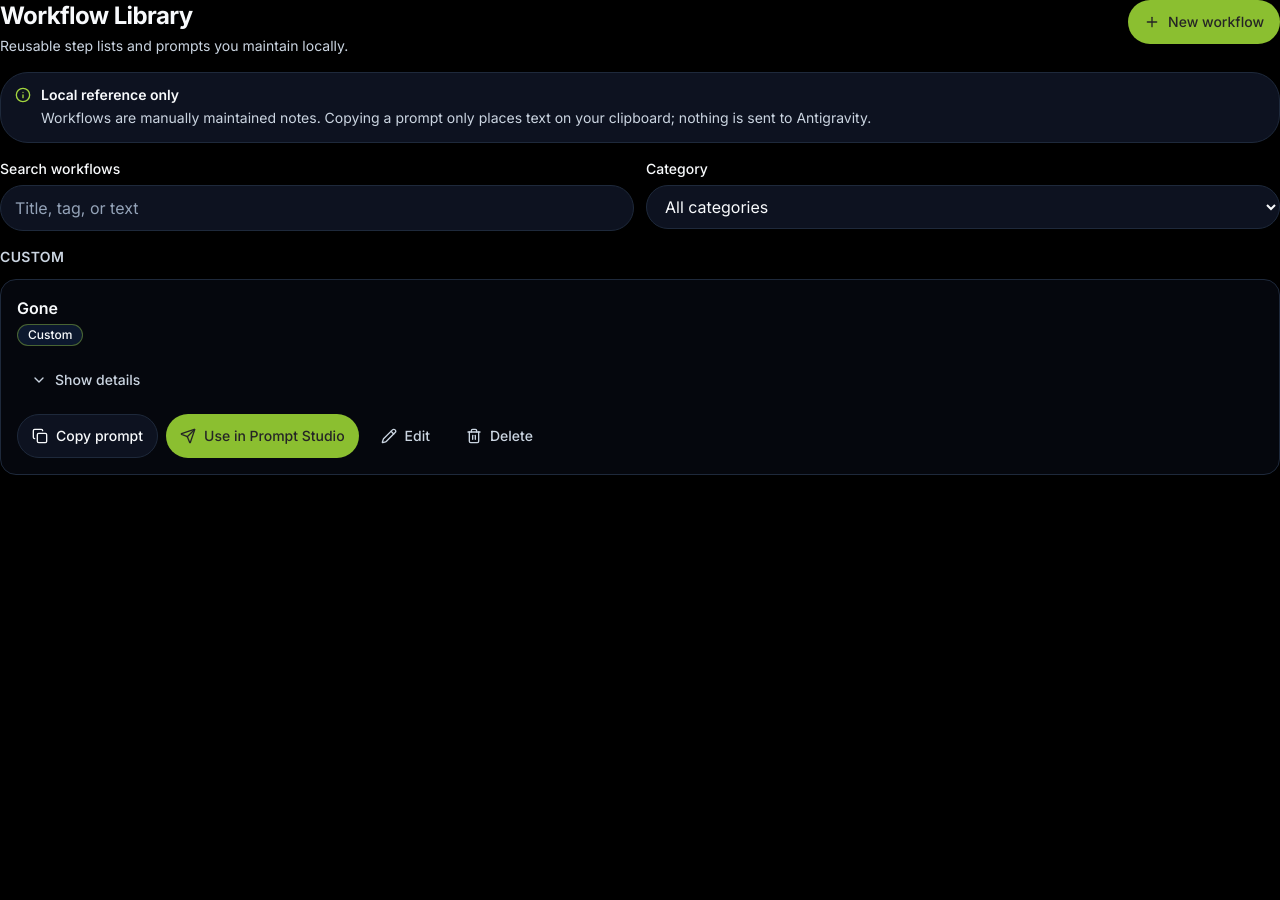
Scenario: WorkflowLibraryPage › deletes with confirm
Expected: the heading "Gone" is shown, [17, 298, 58, 318]
Click the button with aria-label "Delete Gone" at (499, 436), box [452, 414, 547, 458]
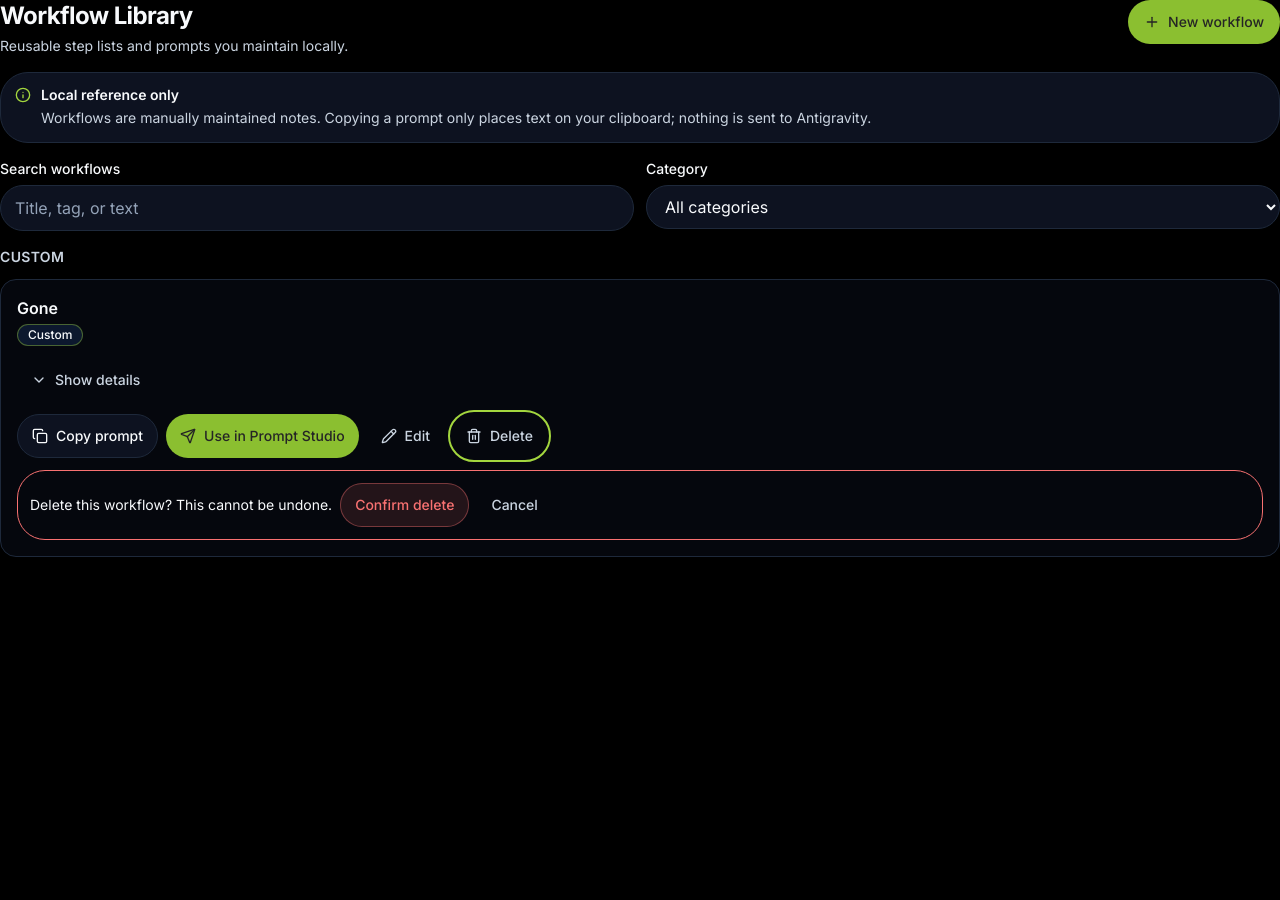
Click the button "Confirm delete" at (405, 505), box [340, 483, 469, 527]
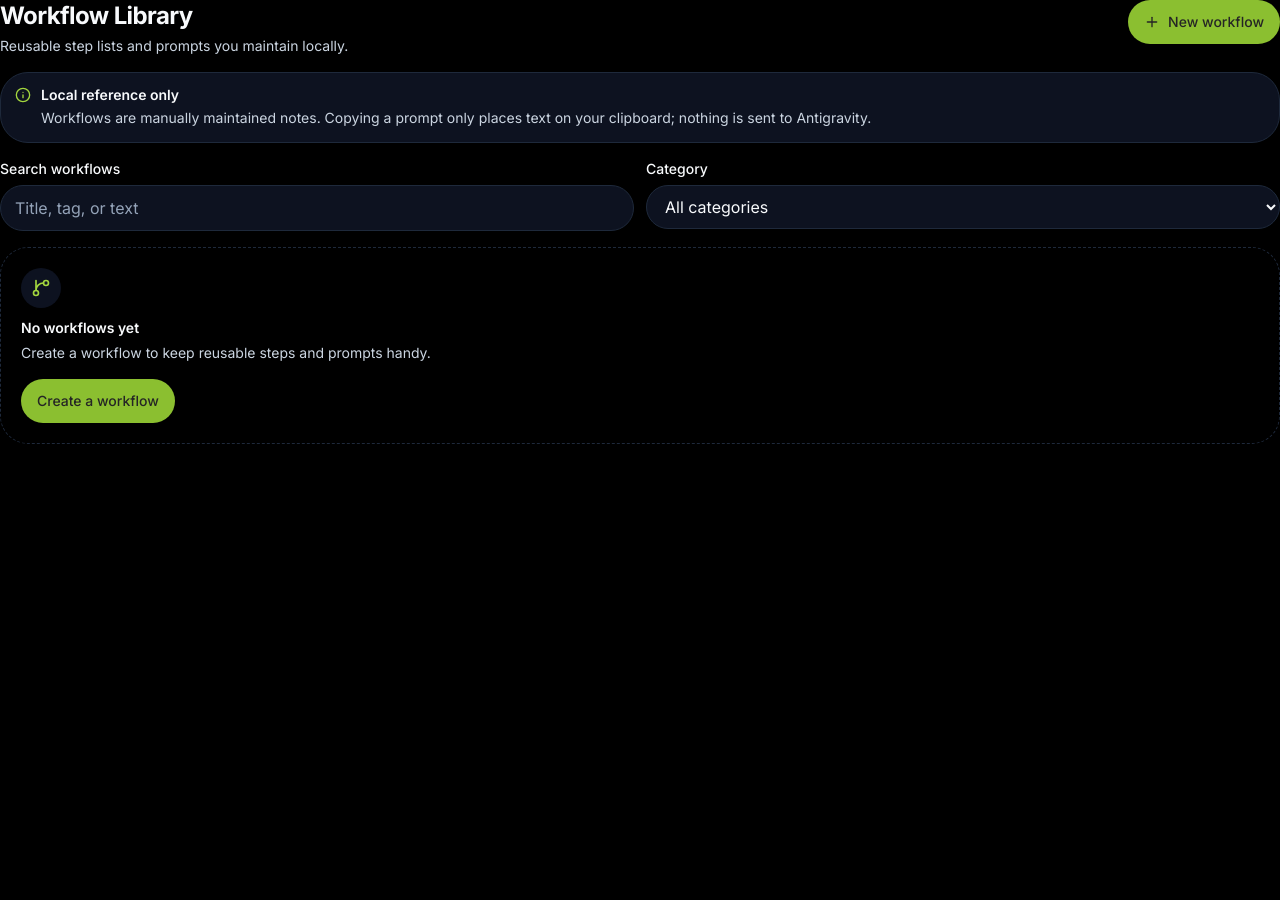
Result: the heading "Gone" is gone
